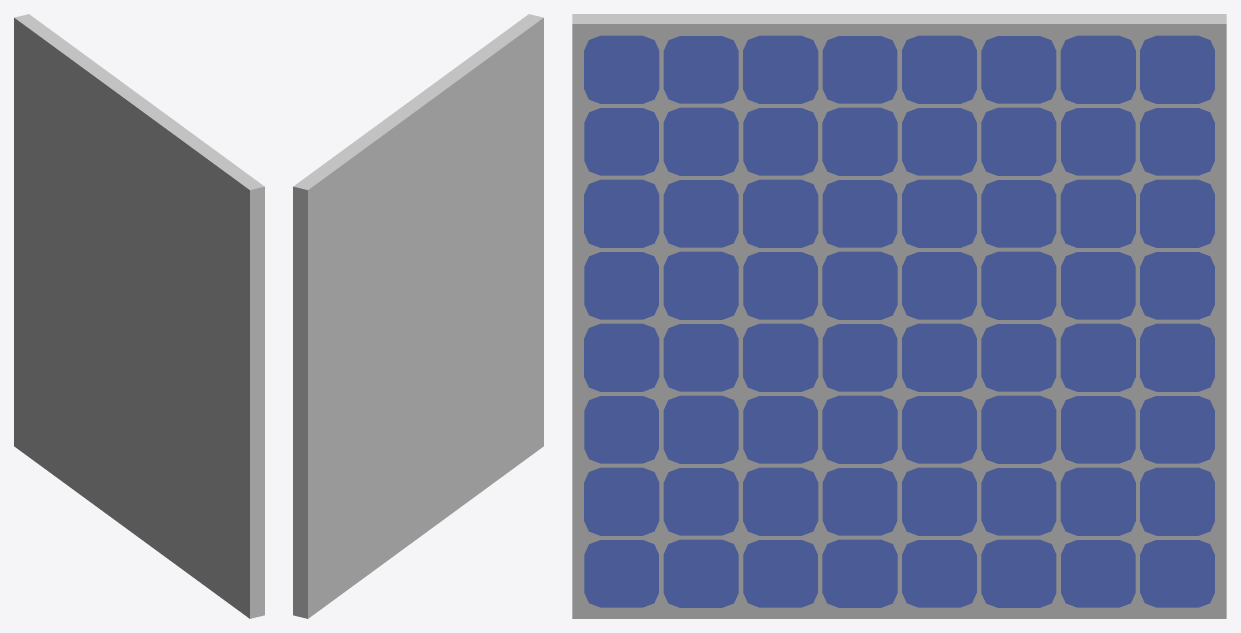
The model's file is solar_unit_2.fbx.
3 renders of one model, left to right at view 1: azimuth 30°, elevation 25°; view 2: azimuth 150°, elevation 25°; view 3: azimuth 270°, elevation 25°, orthographic. The views are drawn at different scales.
Visible parts, largest first — view 1: solar_unit_2; view 2: solar_unit_2; view 3: solar_unit_2.
Part boxes in pixels (<box>): solar_unit_2: <box>14,14,264,618</box>; solar_unit_2: <box>293,14,543,618</box>; solar_unit_2: <box>572,14,1226,618</box>.
Size of the model in its own units: 30.33 by 826 by 824.
